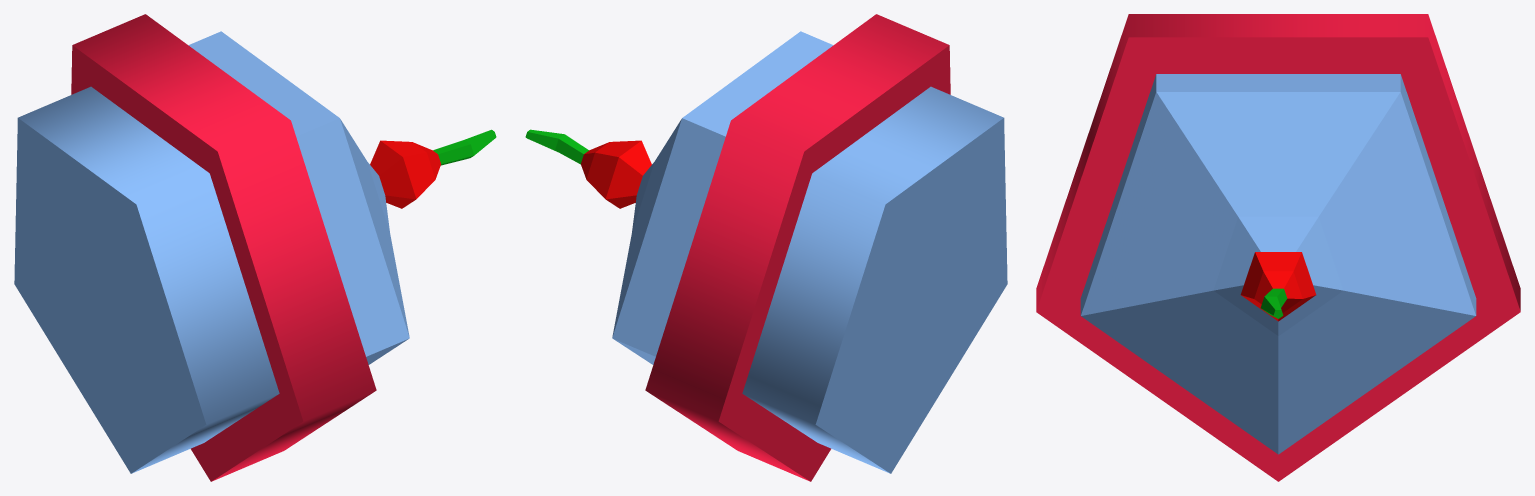
File: Projectile_Cake.FBX
3 renders of one model, left to right at view 1: azimuth 30°, elevation 25°; view 2: azimuth 150°, elevation 25°; view 3: azimuth 270°, elevation 25°, orthographic. The views are drawn at different scales.
Visible parts, largest first — view 1: Cylinder003; view 2: Cylinder003; view 3: Cylinder003.
Part boxes in pixels (box(x1,y1,x2,y2)): Cylinder003: box(14, 14, 496, 481); Cylinder003: box(525, 14, 1007, 481); Cylinder003: box(1036, 14, 1520, 481).
Bounding box in the file's own units: 0.6873 × 0.6496 × 0.6709.
